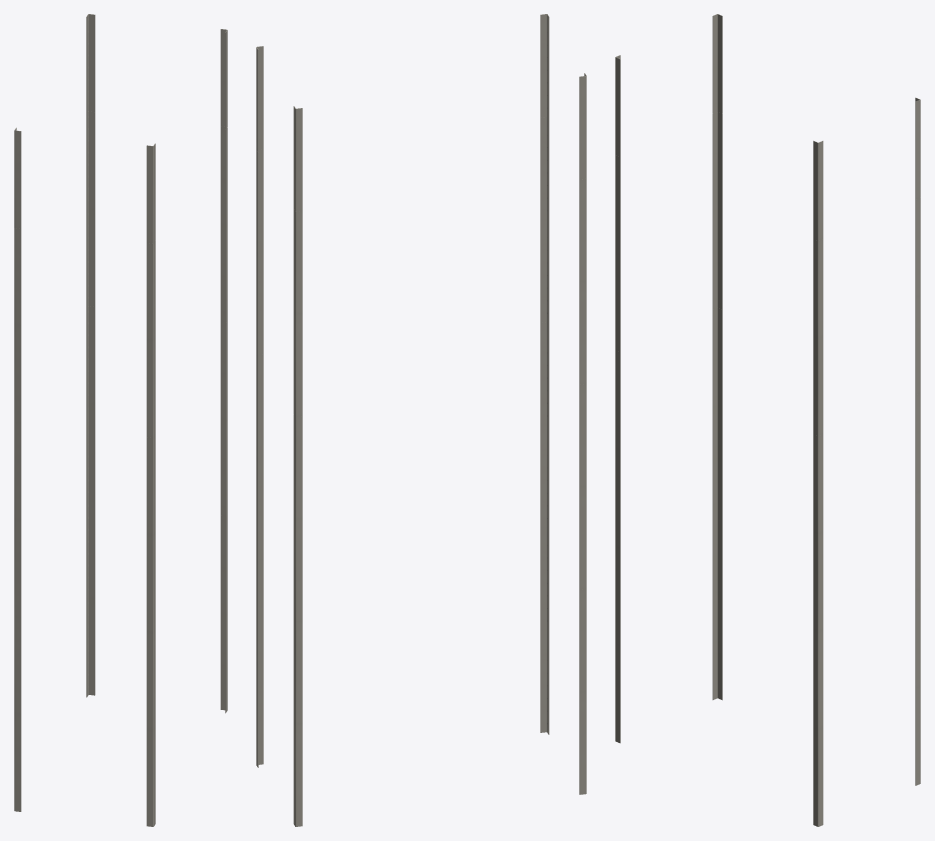
Rendered from shelf_0301_t50_h2100_w800.glb.
3 views of the same model, side by side, from view 1: azimuth 30°, elevation 25°; view 2: azimuth 150°, elevation 25°; view 3: azimuth 270°, elevation 25° (orthographic). The views are drawn at different scales.
Parts seen in each view (by area): view 1: shelf_0301_t50_h2100_w800; view 2: shelf_0301_t50_h2100_w800; view 3: shelf_0301_t50_h2100_w800.
Boxes of the visible parts, left/top/right/bottom form: shelf_0301_t50_h2100_w800: left=14, top=14, right=227, bottom=826; shelf_0301_t50_h2100_w800: left=256, top=14, right=586, bottom=826; shelf_0301_t50_h2100_w800: left=615, top=14, right=920, bottom=826.
Size of the model in its own units: 0.8487 by 2.1 by 0.8487.
Materials: 1 (1 with a texture image).
